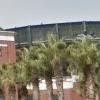Palm tree: (23, 31, 92, 93)
